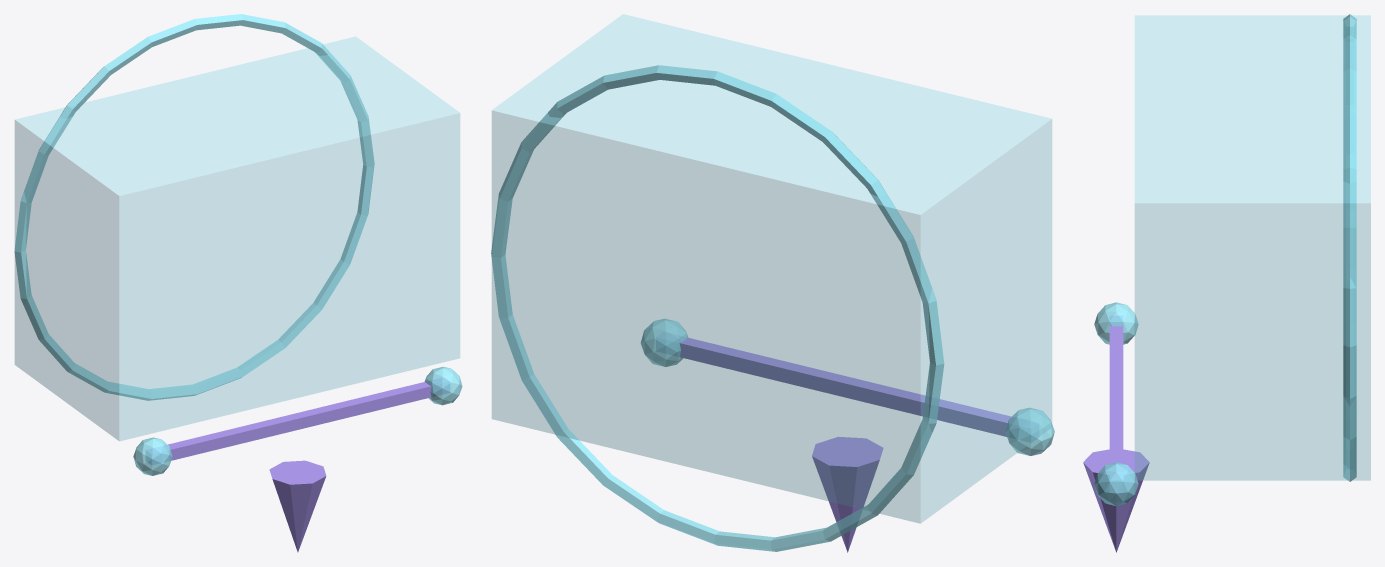
Rendered from 06_dynamic_combat_camera_trigger.glb.
3 renders of one model, left to right at view 1: azimuth 30°, elevation 25°; view 2: azimuth 150°, elevation 25°; view 3: azimuth 270°, elevation 25°, orthographic. The views are drawn at different scales.
Parts seen in each view (by area): view 1: combat_camera_volume, combat_start_ring, camera_rail, look_direction, camera_anchor_a, camera_anchor_b; view 2: combat_camera_volume, combat_start_ring, camera_rail, look_direction, camera_anchor_a, camera_anchor_b; view 3: combat_camera_volume, combat_start_ring, look_direction, camera_rail, camera_anchor_b, camera_anchor_a.
Part boxes in pixels (box(x1,y1,x2,y2)): combat_camera_volume: box(15, 36, 459, 441); combat_start_ring: box(14, 14, 374, 400); camera_rail: box(146, 378, 449, 464); look_direction: box(269, 460, 326, 552); camera_anchor_a: box(133, 437, 172, 475); camera_anchor_b: box(424, 366, 462, 405); combat_camera_volume: box(492, 14, 1051, 523); combat_start_ring: box(491, 65, 944, 551); camera_rail: box(679, 337, 1011, 436); look_direction: box(812, 436, 883, 552); camera_anchor_a: box(1005, 407, 1054, 455); camera_anchor_b: box(641, 318, 687, 366); combat_camera_volume: box(1135, 15, 1370, 480); combat_start_ring: box(1343, 14, 1356, 481); look_direction: box(1083, 449, 1149, 552); camera_rail: box(1109, 316, 1123, 492); camera_anchor_b: box(1094, 462, 1138, 506); camera_anchor_a: box(1094, 302, 1138, 344).
Bounding box in the file's own units: 1.69 × 2.06 × 1.03.
